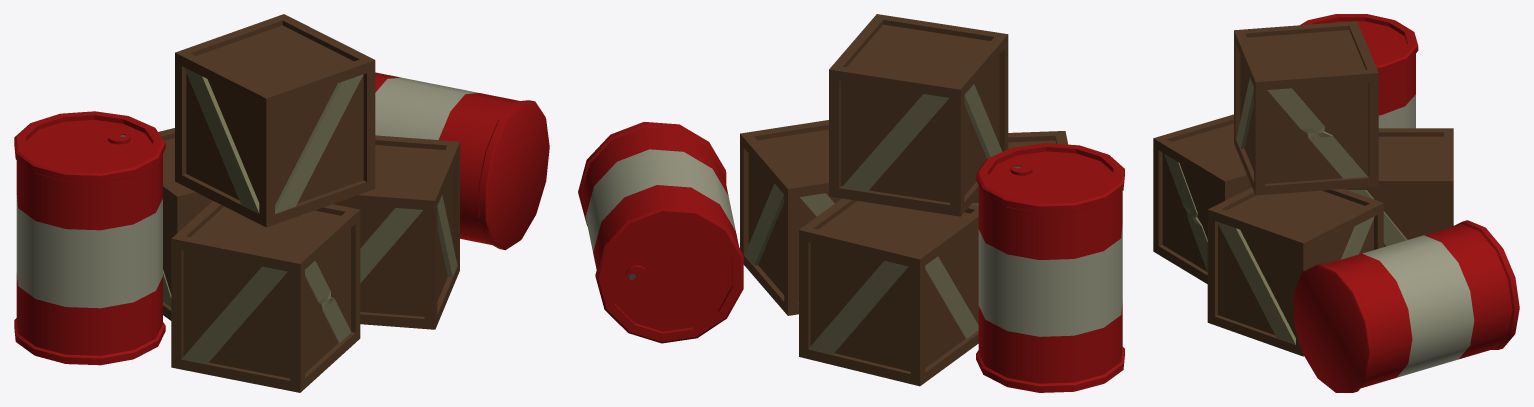
The model's file is 오브젝트 1(나무상자와 기름통).FBX.
The picture shows the model from 3 angles, left to right: view 1: azimuth 30°, elevation 25°; view 2: azimuth 150°, elevation 25°; view 3: azimuth 270°, elevation 25°; orthographic projection. The views are drawn at different scales.
Parts seen in each view (by area): view 1: Object002; view 2: Object002; view 3: Object002.
Boxes of the visible parts, x1,y1,x2,y2 form: Object002: [14, 14, 549, 392]; Object002: [578, 14, 1124, 392]; Object002: [1153, 14, 1519, 392].
Bounding box in the file's own units: 41111 × 27762 × 19123.
